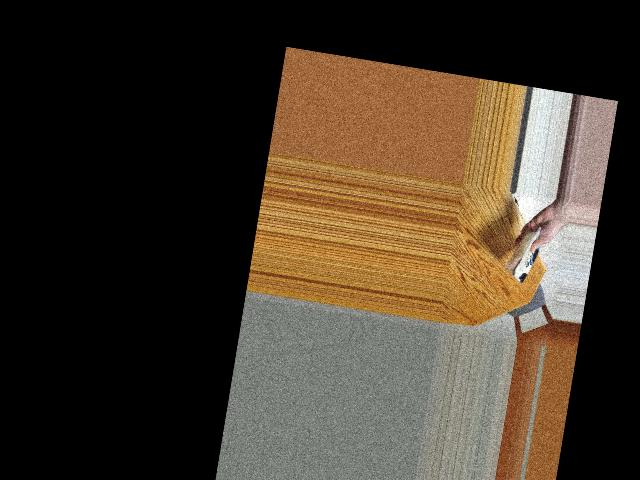cheese: (501, 227, 551, 284)
